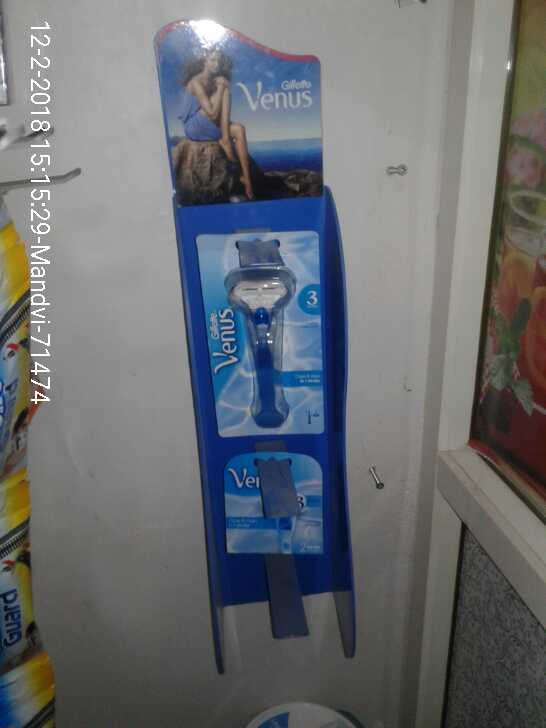venus: (191, 233, 331, 441), (215, 460, 324, 542)
